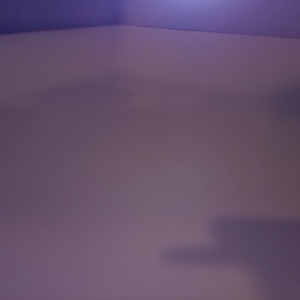dead_ball: (111, 71, 209, 170), (62, 19, 130, 93)
